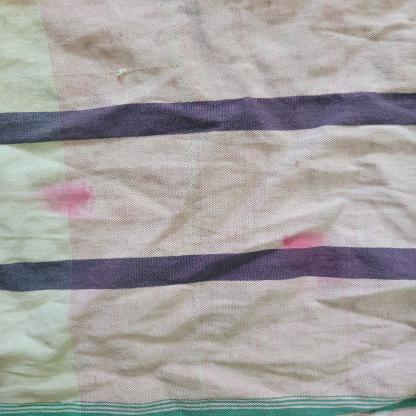spot: (46, 184, 102, 220), (278, 232, 328, 249), (182, 0, 206, 25), (191, 21, 211, 48), (41, 338, 63, 356), (77, 38, 97, 47)
